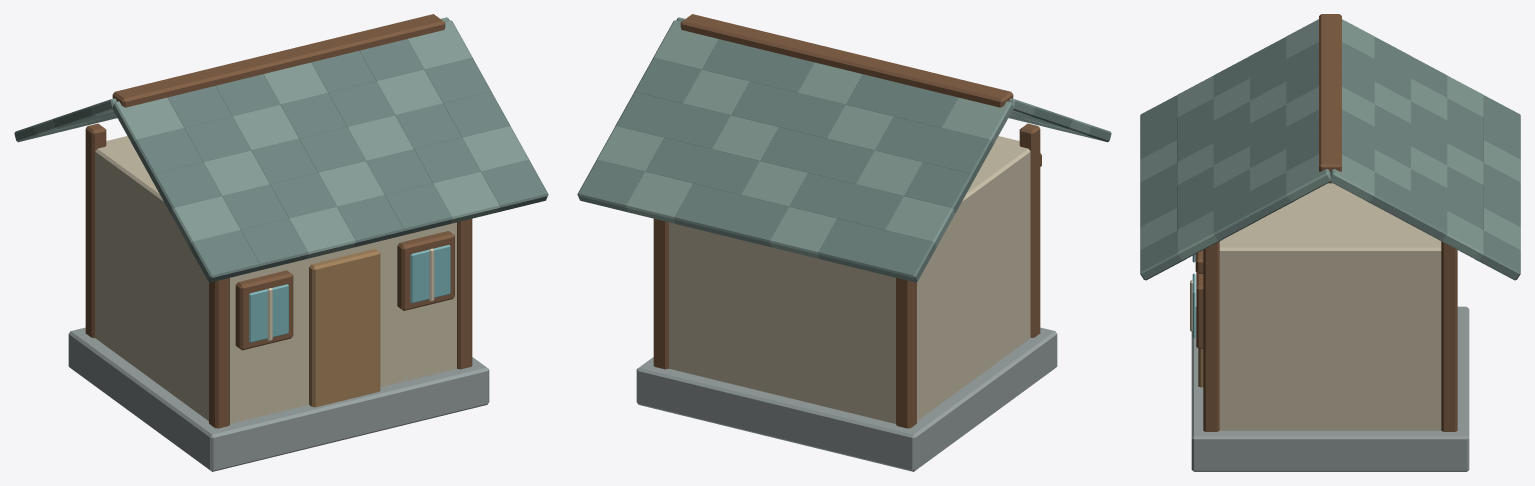
File: home.glb
3 views of the same model, side by side, from view 1: azimuth 30°, elevation 25°; view 2: azimuth 150°, elevation 25°; view 3: azimuth 270°, elevation 25° (orthographic). The views are drawn at different scales.
Parts seen in each view (by area): view 1: Model; view 2: Model; view 3: Model.
Boxes of the visible parts, x1=… form: Model: x1=14, y1=14, x2=548, y2=471; Model: x1=577, y1=14, x2=1111, y2=471; Model: x1=1140, y1=14, x2=1520, y2=471.
Bounding box in the file's own units: 2.28 × 2.12 × 2.3.
